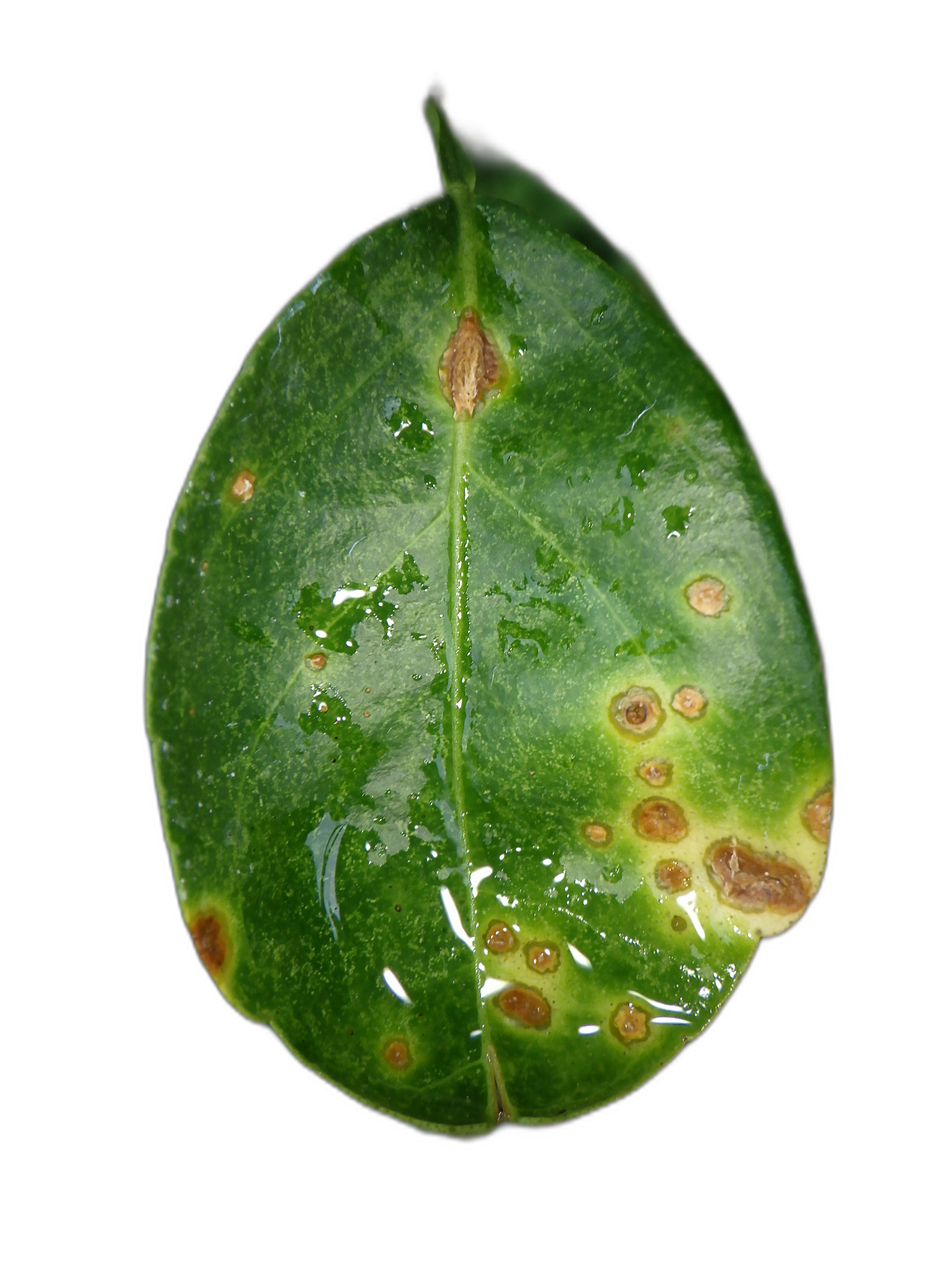Canker: (691, 835, 811, 917), (439, 308, 498, 418), (609, 683, 709, 745), (632, 745, 692, 845), (498, 983, 550, 1027), (190, 914, 229, 972), (684, 576, 729, 617), (609, 1001, 648, 1044), (656, 856, 692, 889), (807, 789, 831, 838), (524, 942, 559, 974), (485, 920, 518, 953), (384, 1038, 410, 1069), (231, 469, 256, 501), (583, 823, 610, 843), (312, 652, 327, 669)
